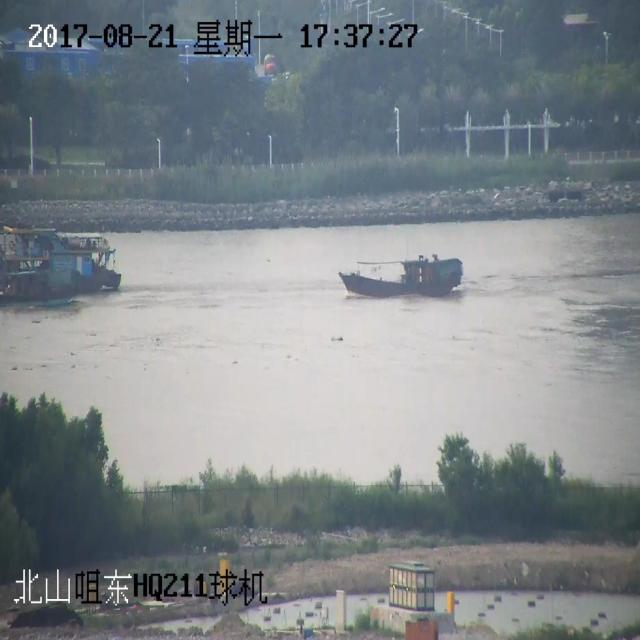cargoship: (0, 222, 158, 303)
fishing boat: (329, 241, 466, 318)
